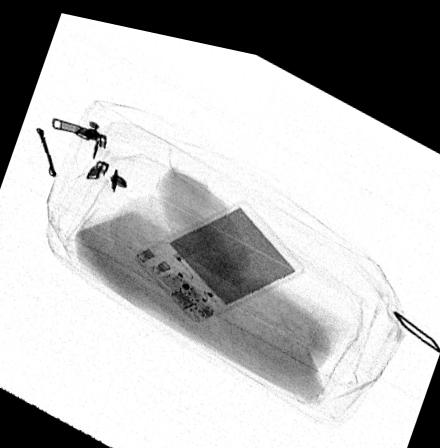Powerbank: (134, 188, 305, 317)
